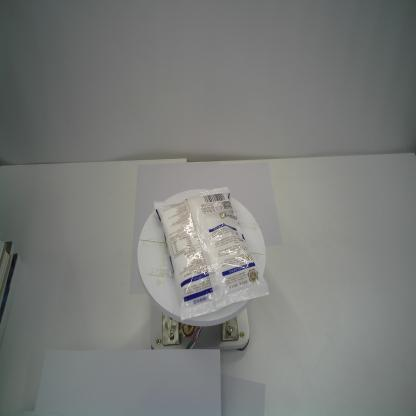Seasoner: (154, 184, 271, 322)
